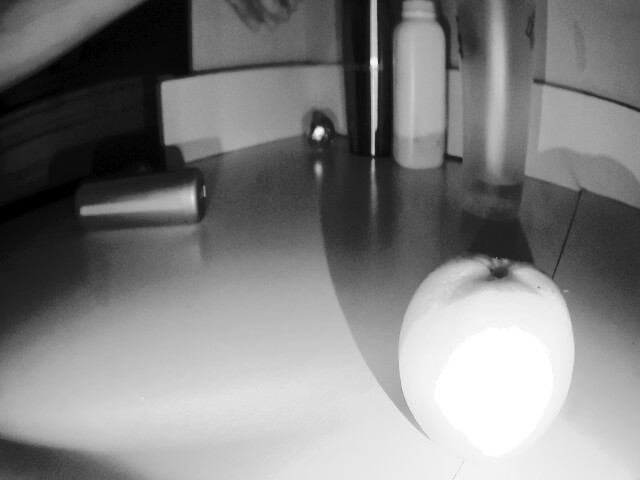black: (306, 114, 338, 153)
